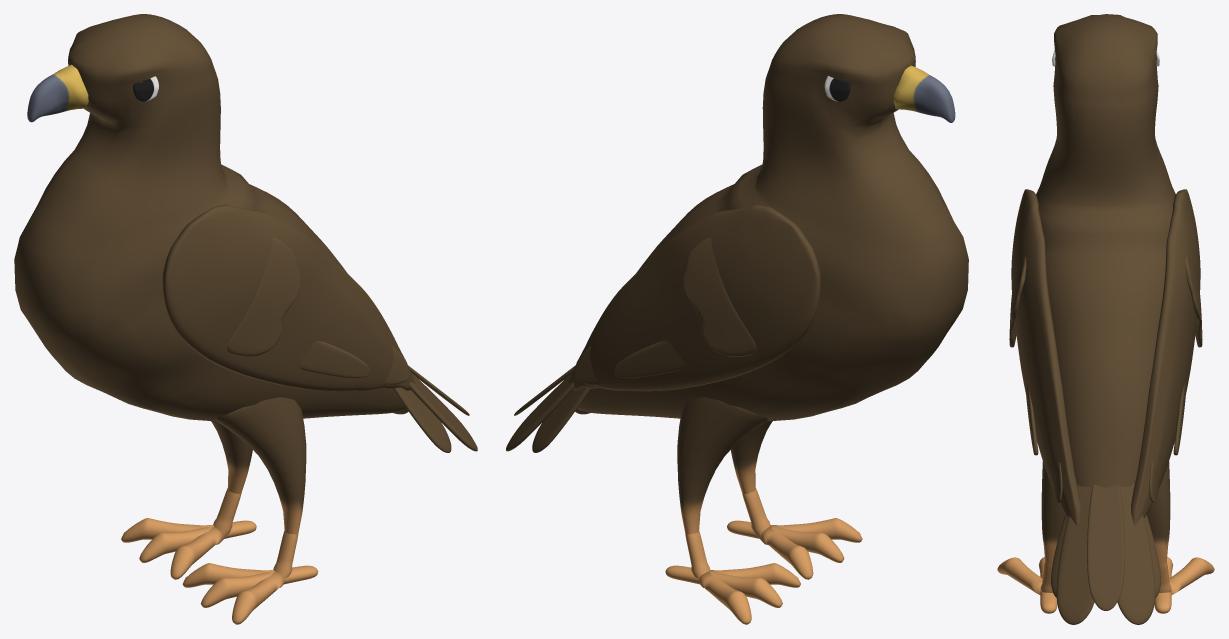
Rendered from Burgut.fbx.
The picture shows the model from 3 angles, left to right: view 1: azimuth 30°, elevation 25°; view 2: azimuth 150°, elevation 25°; view 3: azimuth 270°, elevation 25°; orthographic projection. The views are drawn at different scales.
Visible parts, largest first — view 1: Plane, Plane.002, Plane.008, Plane.007, Plane.001, Plane.009, Plane.004, Plane.003; view 2: Plane, Plane.002, Plane.008, Plane.007, Plane.001, Plane.009, Plane.004, Plane.003; view 3: Plane, Plane.002, Plane.003, Plane.008, Plane.005, Plane.007, Plane.004, Plane.009, Plane.010.
Boxes of the visible parts, bbox=[...] form: Plane: bbox=[14, 14, 406, 421]; Plane.002: bbox=[162, 204, 415, 391]; Plane.008: bbox=[121, 397, 318, 624]; Plane.007: bbox=[227, 237, 300, 356]; Plane.001: bbox=[27, 64, 88, 122]; Plane.009: bbox=[298, 341, 369, 378]; Plane.004: bbox=[393, 387, 451, 452]; Plane.003: bbox=[409, 373, 477, 451]; Plane: bbox=[577, 14, 968, 421]; Plane.002: bbox=[568, 204, 820, 391]; Plane.008: bbox=[665, 397, 862, 624]; Plane.007: bbox=[683, 237, 756, 356]; Plane.001: bbox=[893, 65, 955, 122]; Plane.009: bbox=[614, 341, 684, 378]; Plane.004: bbox=[532, 387, 590, 452]; Plane.003: bbox=[506, 373, 574, 451]; Plane: bbox=[1036, 14, 1175, 487]; Plane.002: bbox=[1011, 189, 1200, 525]; Plane.003: bbox=[1056, 484, 1155, 624]; Plane.008: bbox=[997, 461, 1214, 613]; Plane.005: bbox=[1087, 484, 1124, 610]; Plane.007: bbox=[1009, 256, 1202, 347]; Plane.004: bbox=[1051, 515, 1160, 597]; Plane.009: bbox=[1025, 382, 1186, 455]; Plane.010: bbox=[1053, 462, 1158, 502].
Bounding box in the file's own units: 0.2249 × 0.278 × 0.1032.
11 materials, 11 textured.
